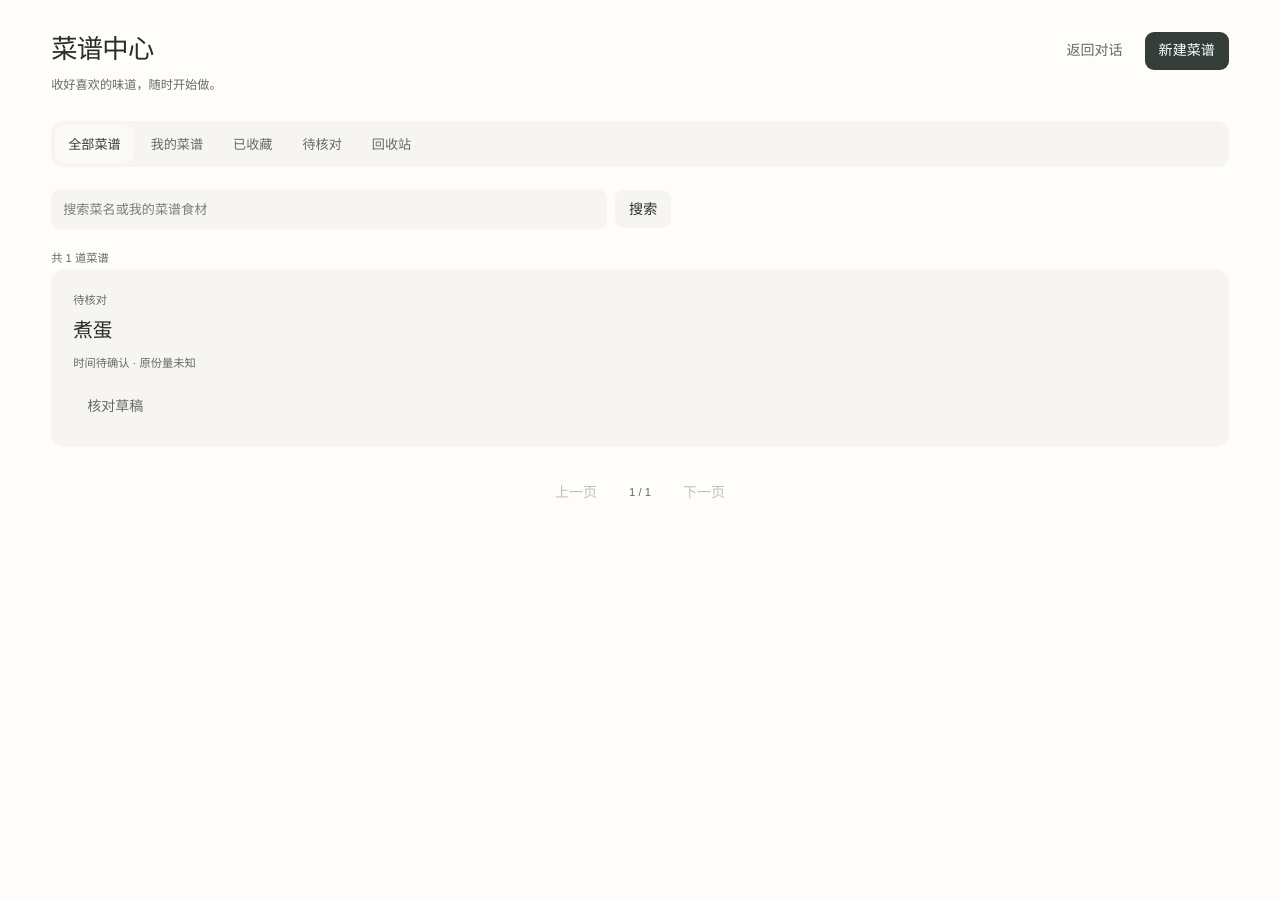
Test: center request lifecycles › confirms a dirty internal return once when the parent also guards navigation
Click the button "核对草稿" at [115, 406], box [73,387,157,425]
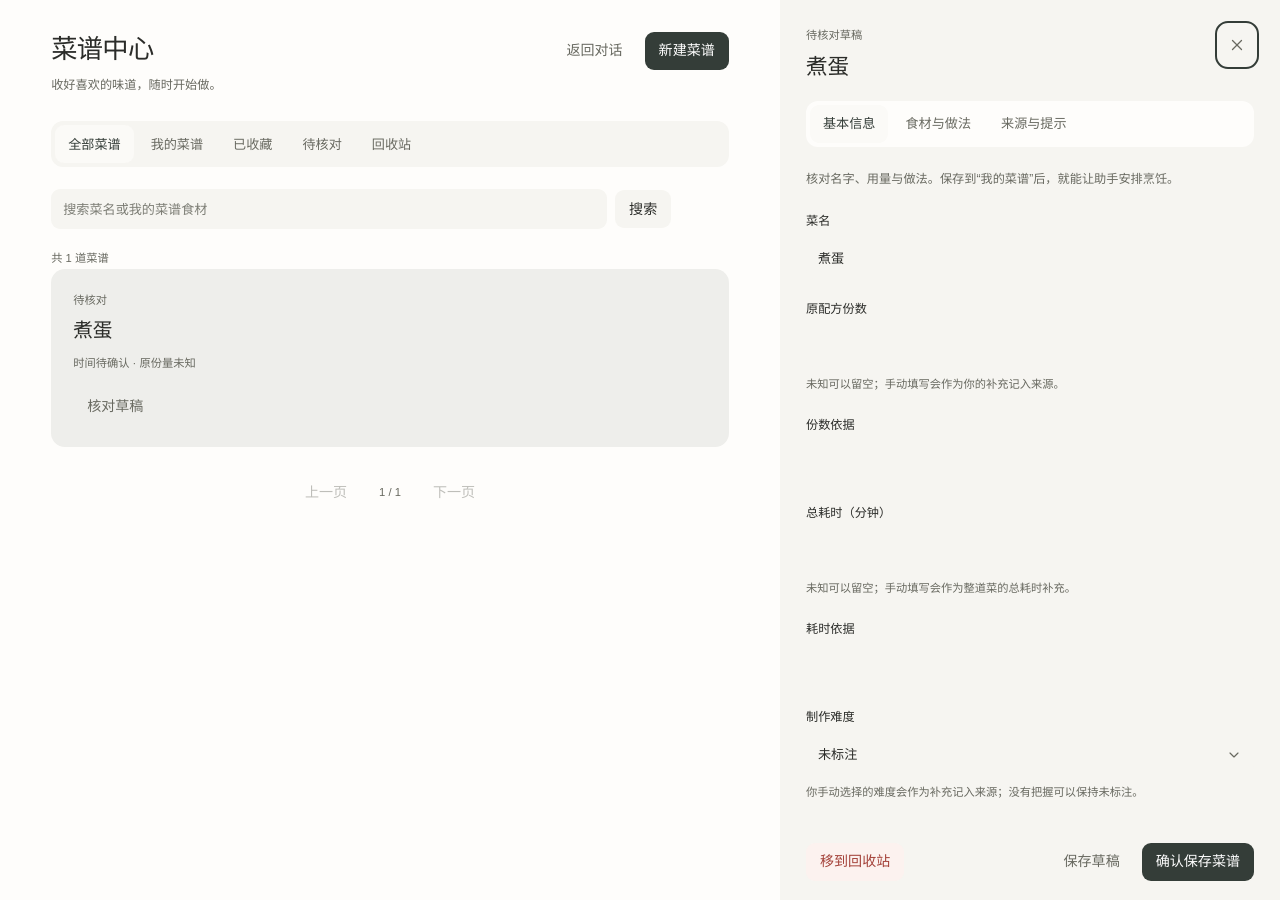
Replace the text in the field labelled "菜名" with "还未保存" at [1030, 259], box [806,239,1254,279]
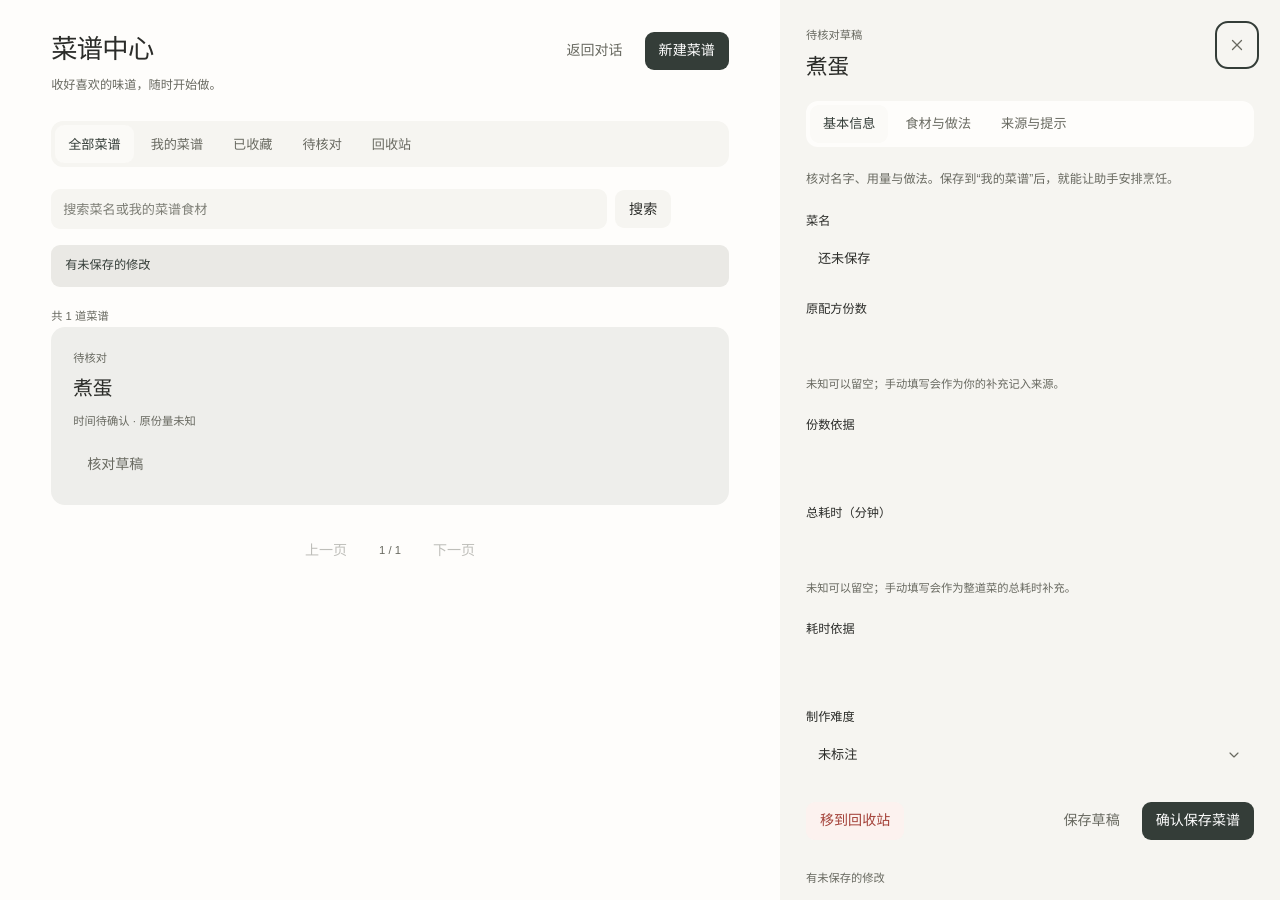
Click the button "返回对话" at [594, 51], box [552,32,637,70]
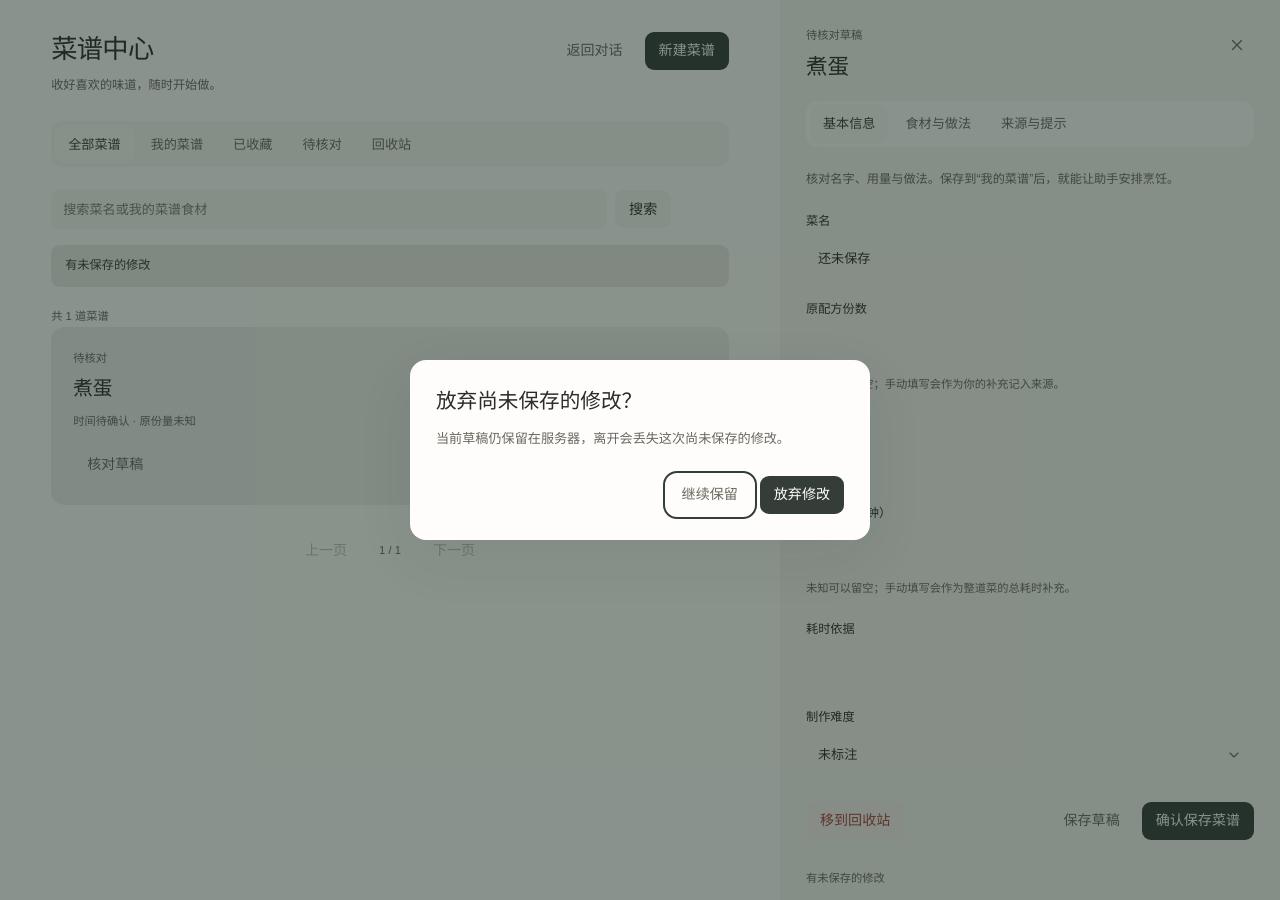
Click the button "放弃修改" at [802, 495], box [760,476,844,514]
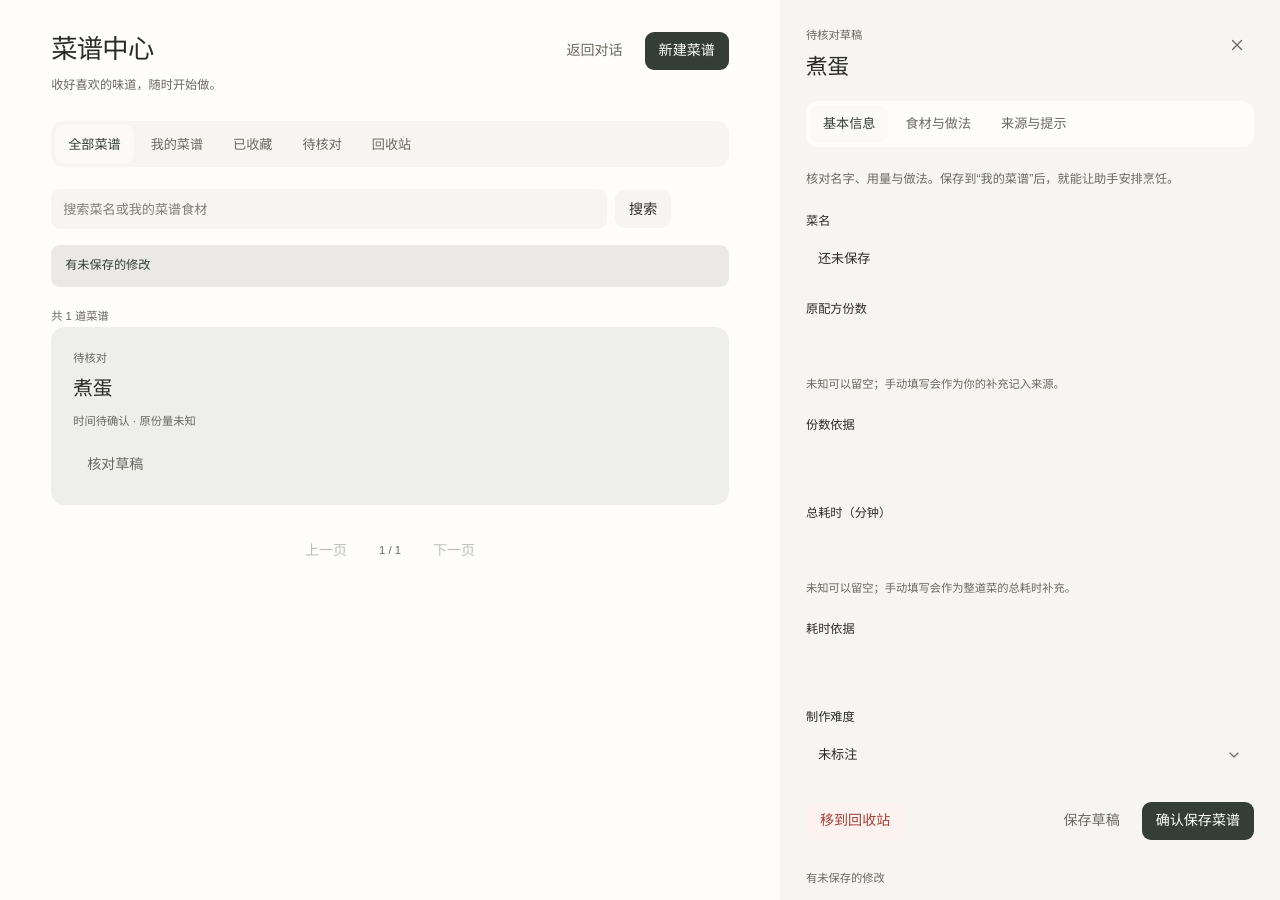
Now the dialog is gone
